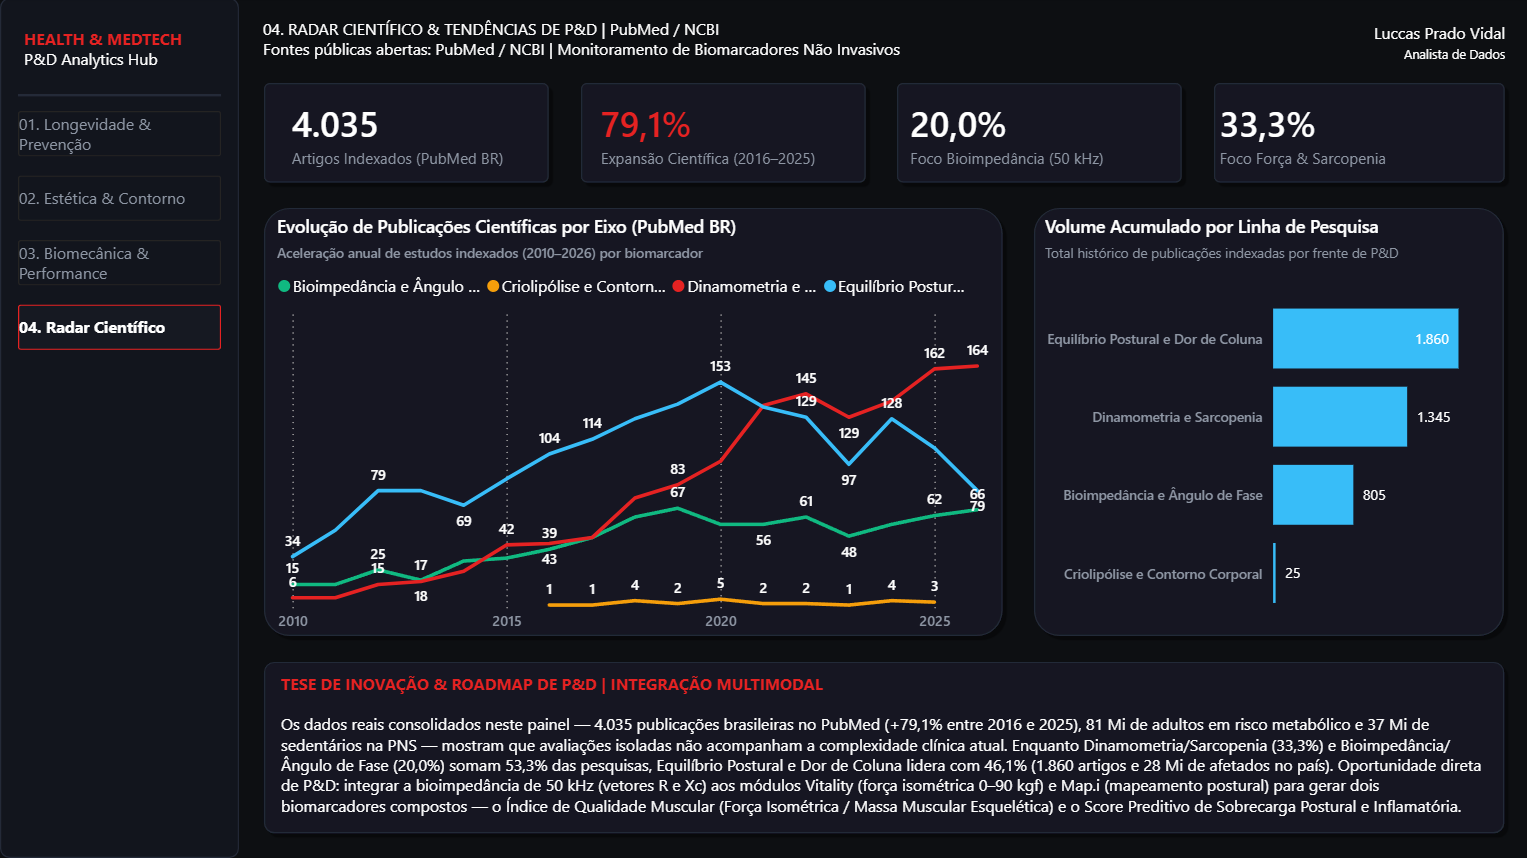

What the dashboard file says about the page in this screenshot:
{"tool":"powerbi","page":{"name":"04. Radar Científico","canvas":[1280,720],"ordinal":3},"visuals":[{"type":"shape","box":[0,0,200.1,720],"z":0},{"type":"shape","box":[215,65,250,95],"z":0,"group":"g1"},{"type":"group","id":"g1","title":"Grupo 1","box":[215,65,1050,640],"z":1000},{"type":"shape","box":[745,65,250,95],"z":1000,"group":"g1"},{"type":"textbox","box":[215,12,700,45],"z":2000},{"type":"shape","box":[1010,65,255,95],"z":2000,"group":"g1"},{"type":"textbox","box":[920,15,345,46],"z":3000},{"type":"shape","box":[215,170,630,370],"z":3000,"group":"g1"},{"type":"textbox","box":[15,20,150,50],"z":4000},{"type":"shape","box":[480,65,250,95],"z":4000,"group":"g1"},{"type":"shape","box":[15,75,170,12],"z":5000},{"type":"shape","box":[215,550,1050,155],"z":5000,"group":"g1"},{"type":"pageNavigator","box":[15,95,170,200],"z":6000},{"type":"shape","box":[860,170,405,370],"z":6000,"group":"g1"},{"type":"cardVisual","fields":{"Data":["_Medidas.Total Artigos Publicados","_Medidas.Crescimento Científico (2016-2025)","_Medidas.Share Bioimpedância (b.IA)","_Medidas.Share Dinamometria (Digital Force)"]},"box":[215.2,64.9,1064.8,95.5],"z":7000},{"type":"lineChart","title":"Evolução de Publicações Científicas por Eixo (PubMed BR)","fields":{"Category":["f_Radar_Cientifico_PubMed.Ano"],"Y":["_Medidas.Total Artigos Publicados"],"Series":["f_Radar_Cientifico_PubMed.Eixo_Tecnologico"]},"box":[227.2,180.9,610.3,359],"z":8000},{"type":"clusteredBarChart","title":"Volume Acumulado por Linha de Pesquisa","fields":{"Category":["f_Radar_Cientifico_PubMed.Eixo_Tecnologico"],"Y":["_Medidas.Total Artigos Publicados"]},"box":[870,180.9,388.6,359],"z":9000},{"type":"textbox","box":[230,560,1015,130],"z":9003,"group":"g1"}]}

Visuals, with their boxes in screenshot pixels (x1, y1, x2, y2), scaled from the page's 1280x720 canvas onto the 1527x858 screenshot:
shape: BBox(0, 0, 239, 857)
shape: BBox(256, 77, 555, 191)
"Grupo 1" group: BBox(256, 77, 1509, 840)
shape: BBox(889, 77, 1187, 191)
textbox: BBox(256, 14, 1092, 68)
shape: BBox(1205, 77, 1509, 191)
textbox: BBox(1098, 18, 1509, 73)
shape: BBox(256, 203, 1008, 644)
textbox: BBox(18, 24, 197, 83)
shape: BBox(573, 77, 871, 191)
shape: BBox(18, 89, 221, 104)
shape: BBox(256, 655, 1509, 840)
pageNavigator: BBox(18, 113, 221, 352)
shape: BBox(1026, 203, 1509, 644)
cardVisual - _Medidas.Total Artigos Publicados x _Medidas.Crescimento Científico (2016-2025): BBox(257, 77, 1526, 191)
"Evolução de Publicações Científicas por Eixo (PubMed BR)" lineChart: BBox(271, 216, 999, 643)
"Volume Acumulado por Linha de Pesquisa" clusteredBarChart: BBox(1038, 216, 1501, 643)
textbox: BBox(274, 667, 1485, 822)
